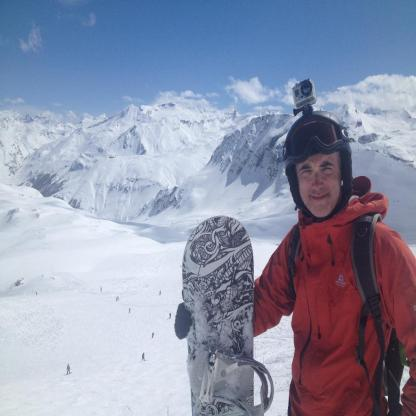Helmet: (280, 78, 355, 224)
